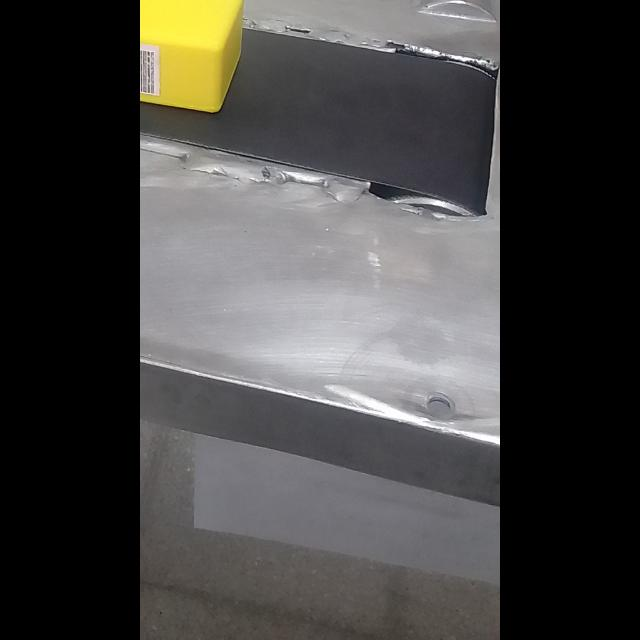yellowBox: (140, 0, 248, 118)
